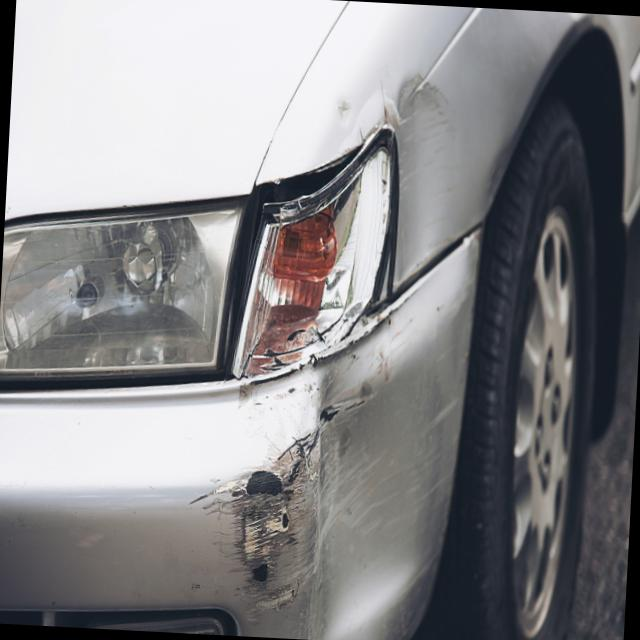Phare abime: (233, 125, 392, 373)
Rayure: (184, 336, 470, 640), (382, 55, 465, 253)
